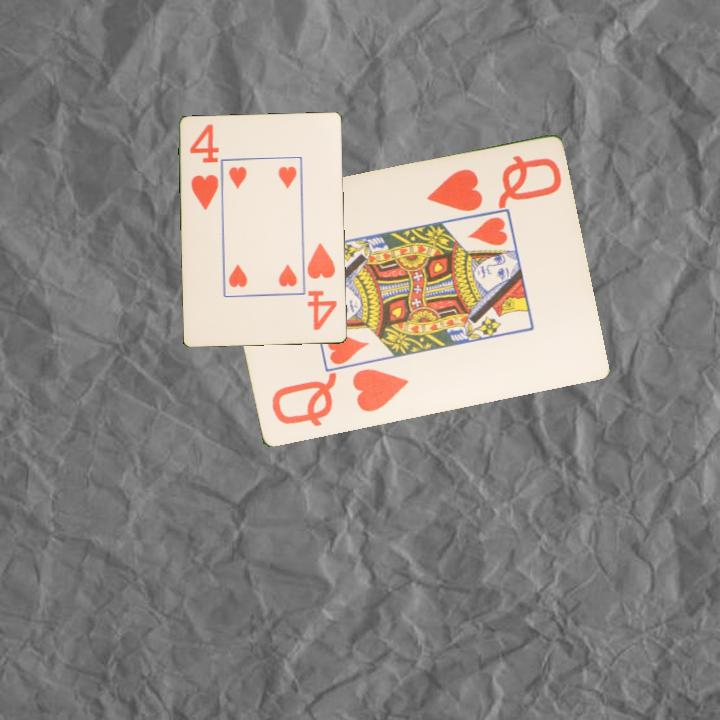4h: (304, 240, 340, 333), (186, 121, 221, 213)
Qh: (267, 365, 411, 430), (422, 152, 564, 215)
